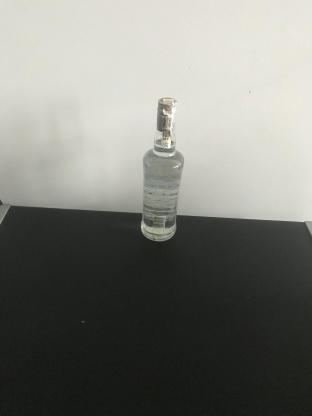nakretka: (155, 94, 178, 133)
